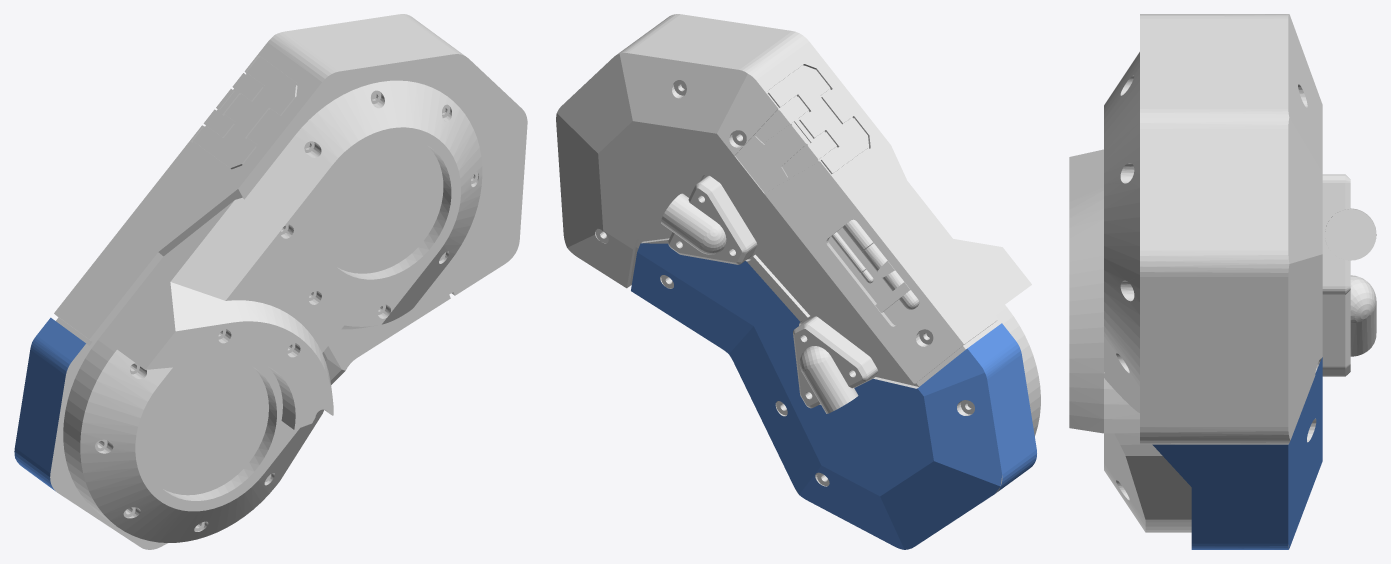
File: left_thigh.dae
3 views of the same model, side by side, from view 1: azimuth 30°, elevation 25°; view 2: azimuth 150°, elevation 25°; view 3: azimuth 270°, elevation 25° (orthographic). The views are drawn at different scales.
Visible parts, largest first — view 1: left_thigh; view 2: left_thigh; view 3: left_thigh.
Boxes of the visible parts, left/top/right/bottom form: left_thigh: left=14, top=14, right=527, bottom=549; left_thigh: left=556, top=14, right=1040, bottom=549; left_thigh: left=1069, top=14, right=1376, bottom=549.
Bounding box in the file's own units: 208 × 89.04 × 196.
